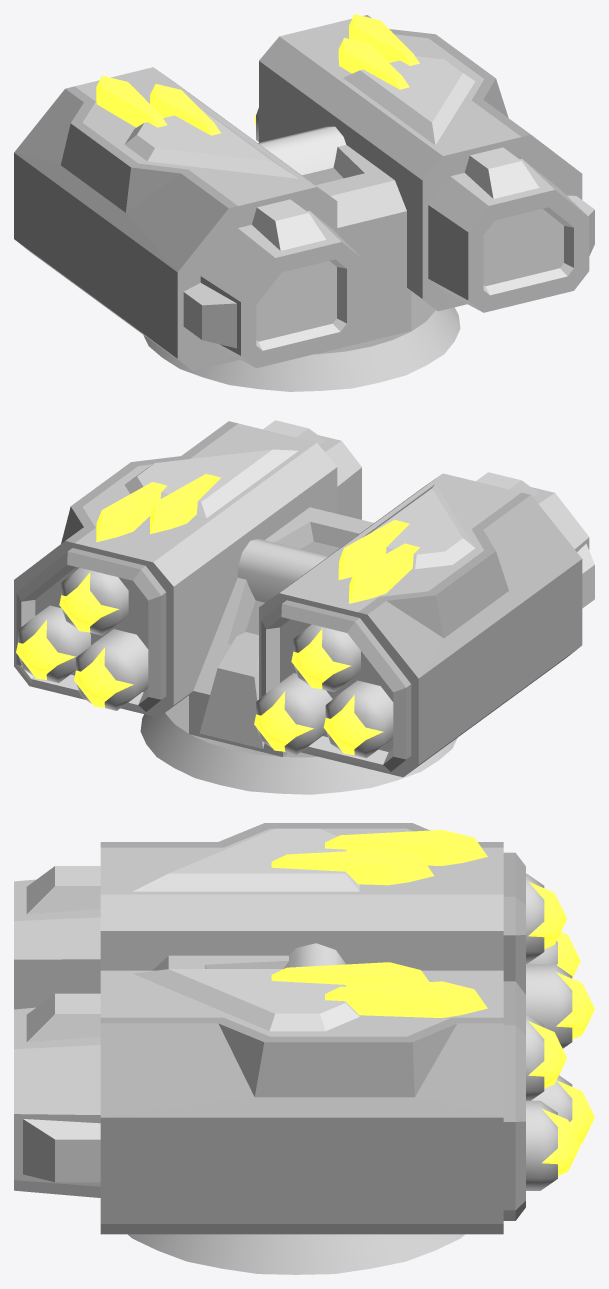
Rendered from SM_Module_TurretHead_Rocket_T2.fbx.
The picture shows the model from 3 angles, top to bottom: view 1: azimuth 30°, elevation 25°; view 2: azimuth 150°, elevation 25°; view 3: azimuth 270°, elevation 25°; orthographic projection. The views are drawn at different scales.
Parts seen in each view (by area): view 1: SM_Module_TurretHead_Rocket_T2; view 2: SM_Module_TurretHead_Rocket_T2; view 3: SM_Module_TurretHead_Rocket_T2.
Boxes of the visible parts, bbox=[...] form: SM_Module_TurretHead_Rocket_T2: bbox=[14, 14, 594, 391]; SM_Module_TurretHead_Rocket_T2: bbox=[14, 420, 594, 794]; SM_Module_TurretHead_Rocket_T2: bbox=[14, 823, 594, 1274].
Size of the model in its own units: 3.7 by 3.74 by 1.98.
